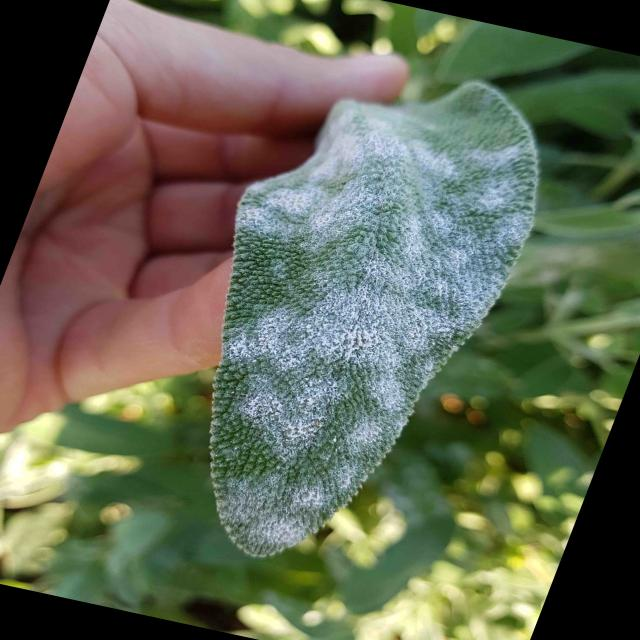Powdery Mildew: (206, 79, 541, 559)
